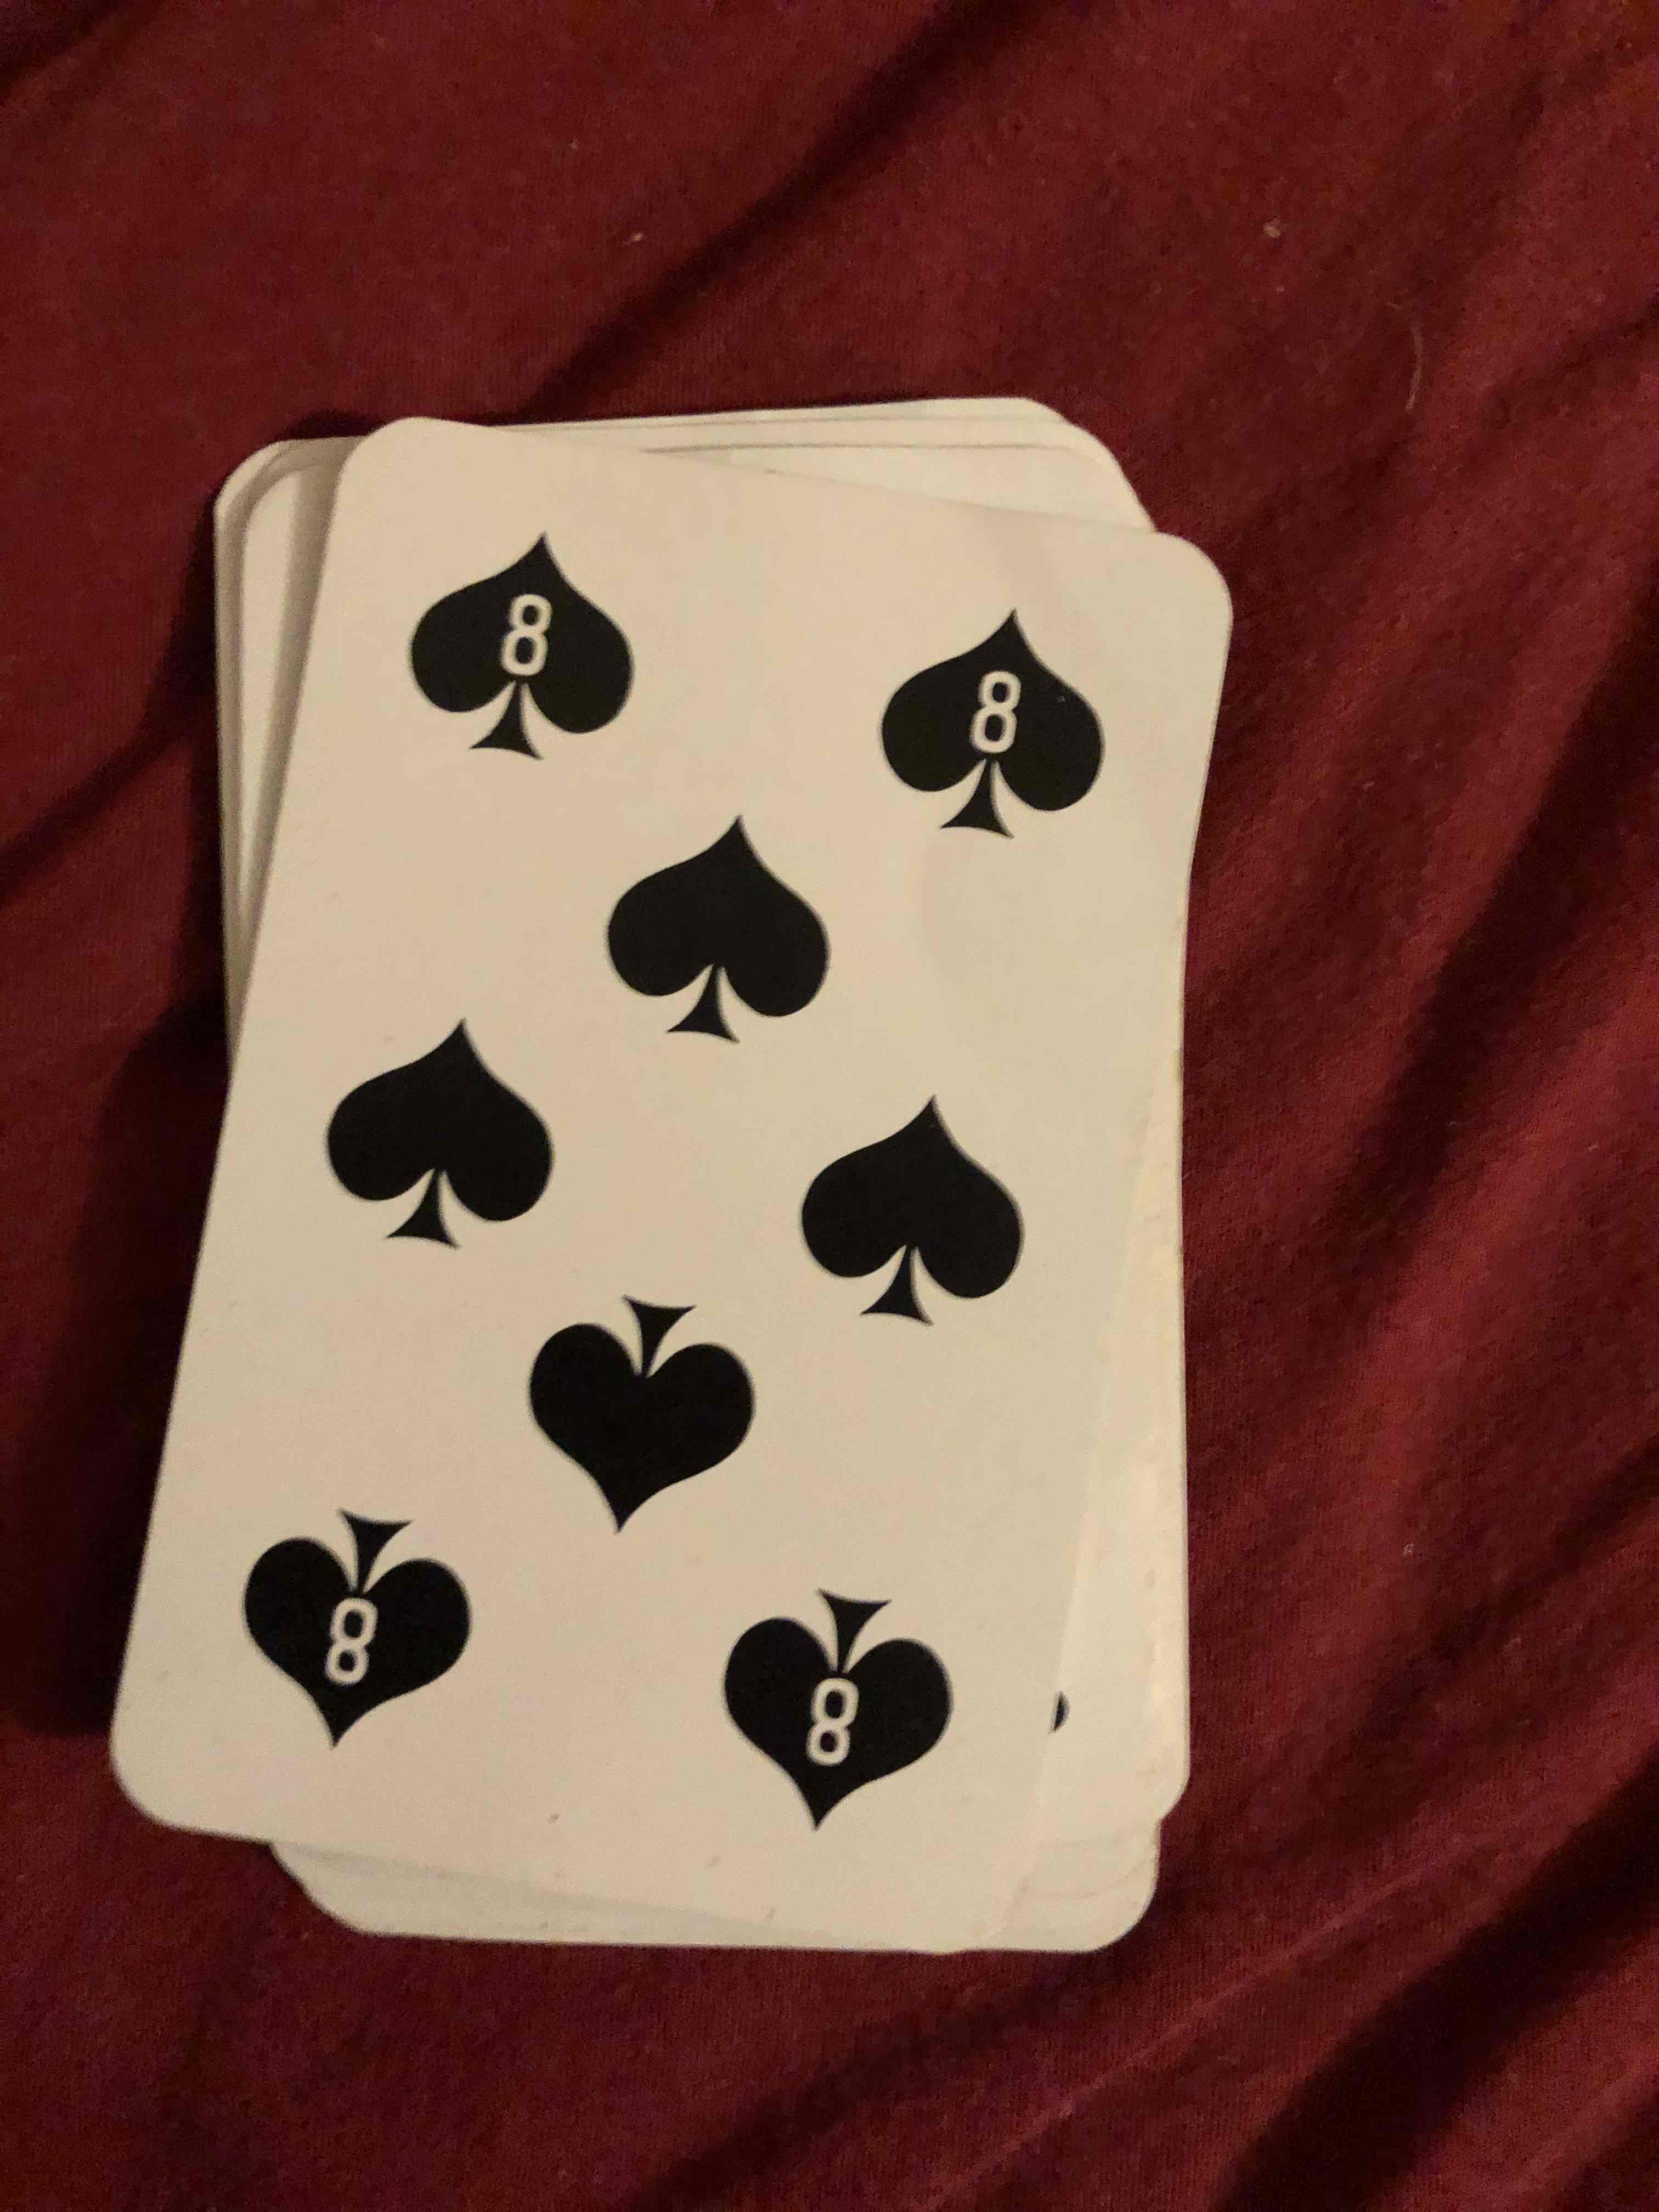spades8: (176, 451, 1169, 1860)
